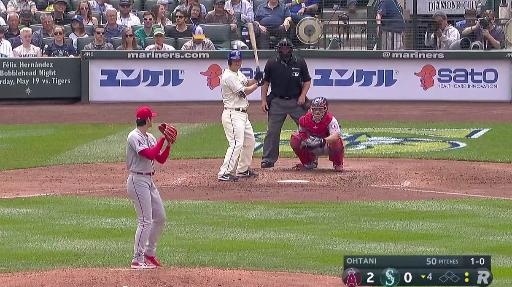pitcher: (126, 105, 184, 270)
